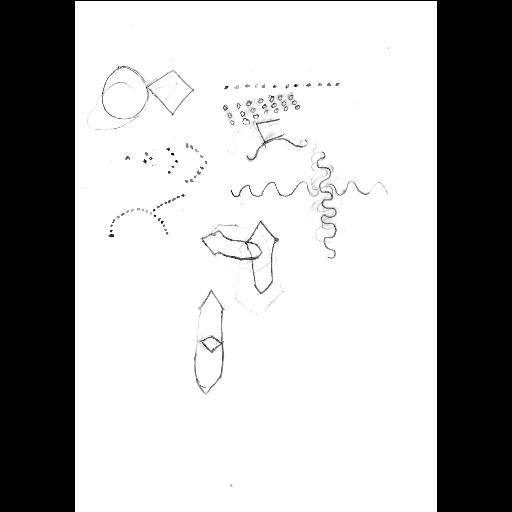shape-1: (99, 60, 195, 122)
shape-2: (217, 78, 343, 92)
shape-3: (221, 88, 301, 130)
shape-4: (120, 138, 212, 186)
shape-5: (247, 114, 309, 168)
shape-6: (104, 188, 186, 242)
shape-7: (229, 148, 389, 262)
shape-8: (198, 214, 280, 294)
shape-9: (184, 286, 230, 398)
